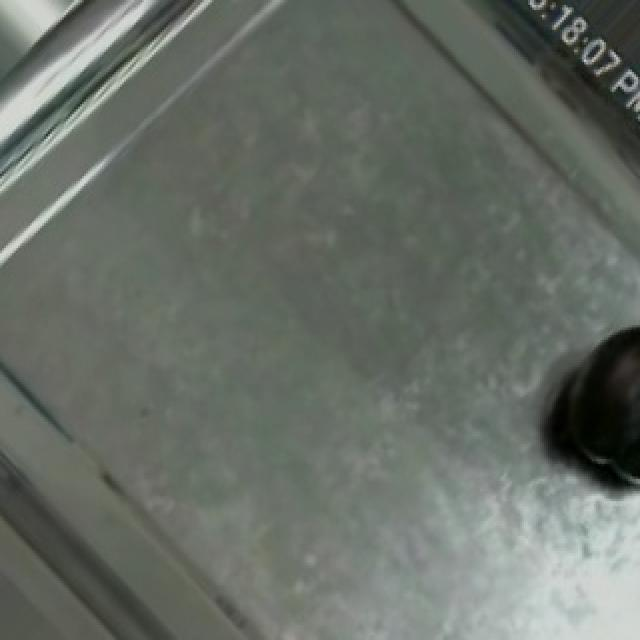Fruit: (546, 300, 640, 501)
